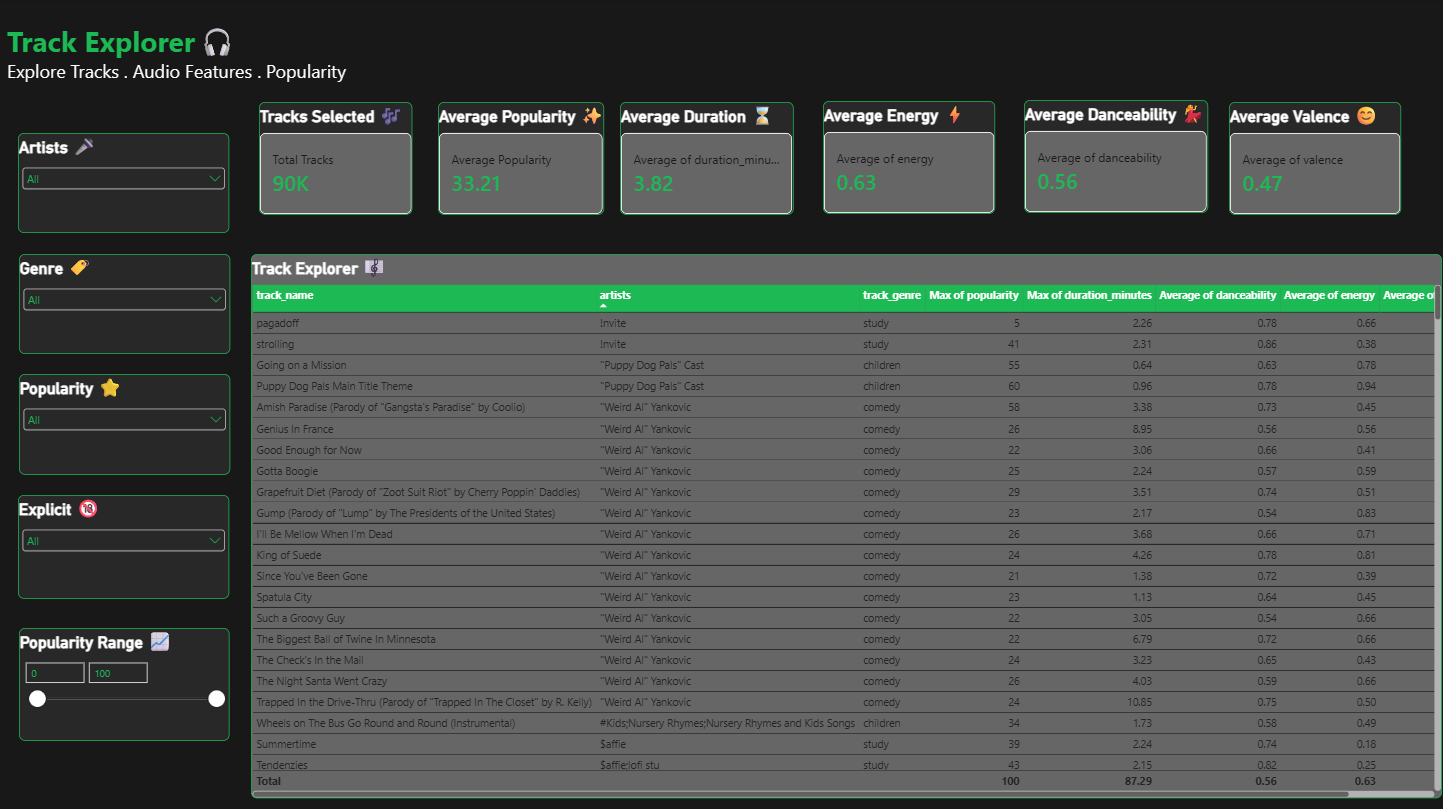

The dashboard page shown, as its layout file describes it:
{"tool":"powerbi","page":{"name":"Track Explorer","canvas":[1920,1080],"ordinal":2},"visuals":[{"type":"slicer","title":"Artists 🎤","fields":{"Values":["spotify_tracks_final.artists"]},"box":[25.3,178.2,280.6,133],"z":0},{"type":"slicer","title":"Genre 🏷️","fields":{"Values":["spotify_tracks_final.track_genre"]},"box":[26.6,339.2,280.6,133],"z":1000},{"type":"slicer","title":"Popularity ⭐","fields":{"Values":["spotify_tracks_final.popularity_category"]},"box":[26.6,498.8,280.6,134.3],"z":2000},{"type":"slicer","title":"Explicit 🔞","fields":{"Values":["spotify_tracks_final.explicit"]},"box":[25.3,659.7,280.6,138.3],"z":3000},{"type":"tableEx","title":"Track Explorer 🎼","fields":{"Values":["spotify_tracks_final.track_name","spotify_tracks_final.artists","spotify_tracks_final.track_genre","Max(spotify_tracks_final.popularity)","Max(spotify_tracks_final.duration_minutes)","Avg(spotify_tracks_final.danceability)","Avg(spotify_tracks_final.energy)","Avg(spotify_tracks_final.valence)","spotify_tracks_final.explicit"]},"box":[335.2,339.2,1584.4,723.6],"z":4000},{"type":"actionButton","box":[0,0,100,40],"z":5000},{"type":"slicer","title":"Popularity Range 📈","fields":{"Values":["spotify_tracks_final.popularity"]},"box":[26.6,836.6,280,150],"z":6000},{"type":"cardVisual","title":"Tracks Selected 🎶","fields":{"Data":["spotify_tracks_final.Total Tracks"]},"box":[345.8,137,204.3,150.3],"z":7000},{"type":"cardVisual","title":"Average Popularity ✨","fields":{"Data":["spotify_tracks_final.Average Popularity"]},"box":[583.9,137,220.8,150.3],"z":8000},{"type":"cardVisual","title":"Average Duration ⌛","fields":{"Data":["Avg(spotify_tracks_final.duration_minutes)"]},"box":[826,137,230.5,150.3],"z":9000},{"type":"cardVisual","title":"Average Energy ⚡","fields":{"Data":["Avg(spotify_tracks_final.energy)"]},"box":[1096,135.7,229.1,150.3],"z":10000},{"type":"cardVisual","title":"Average Danceability 💃","fields":{"Data":["Avg(spotify_tracks_final.danceability)"]},"box":[1363.3,134.3,244.7,150.3],"z":11000},{"type":"cardVisual","title":"Average Valence 😊","fields":{"Data":["Avg(spotify_tracks_final.valence)"]},"box":[1636,137,229.1,150.3],"z":12000},{"type":"textbox","box":[10.6,30.6,489.5,103.7],"z":13000},{"type":"textbox","box":[264.7,30.6,109.1,51.9],"z":13001}]}

Visuals, with their boxes in screenshot pixels (x1, y1, x2, y2), scaled from the page's 1920x1080 canvas onto the 1443x809 screenshot:
"Artists 🎤" slicer: 19:133:230:233
"Genre 🏷️" slicer: 20:254:231:354
"Popularity ⭐" slicer: 20:374:231:474
"Explicit 🔞" slicer: 19:494:230:598
"Track Explorer 🎼" tableEx: 252:254:1442:796
actionButton: 0:0:75:30
"Popularity Range 📈" slicer: 20:627:230:739
"Tracks Selected 🎶" cardVisual: 260:103:413:215
"Average Popularity ✨" cardVisual: 439:103:605:215
"Average Duration ⌛" cardVisual: 621:103:794:215
"Average Energy ⚡" cardVisual: 824:102:996:214
"Average Danceability 💃" cardVisual: 1025:101:1209:213
"Average Valence 😊" cardVisual: 1230:103:1402:215
textbox: 8:23:376:101
textbox: 199:23:281:62
